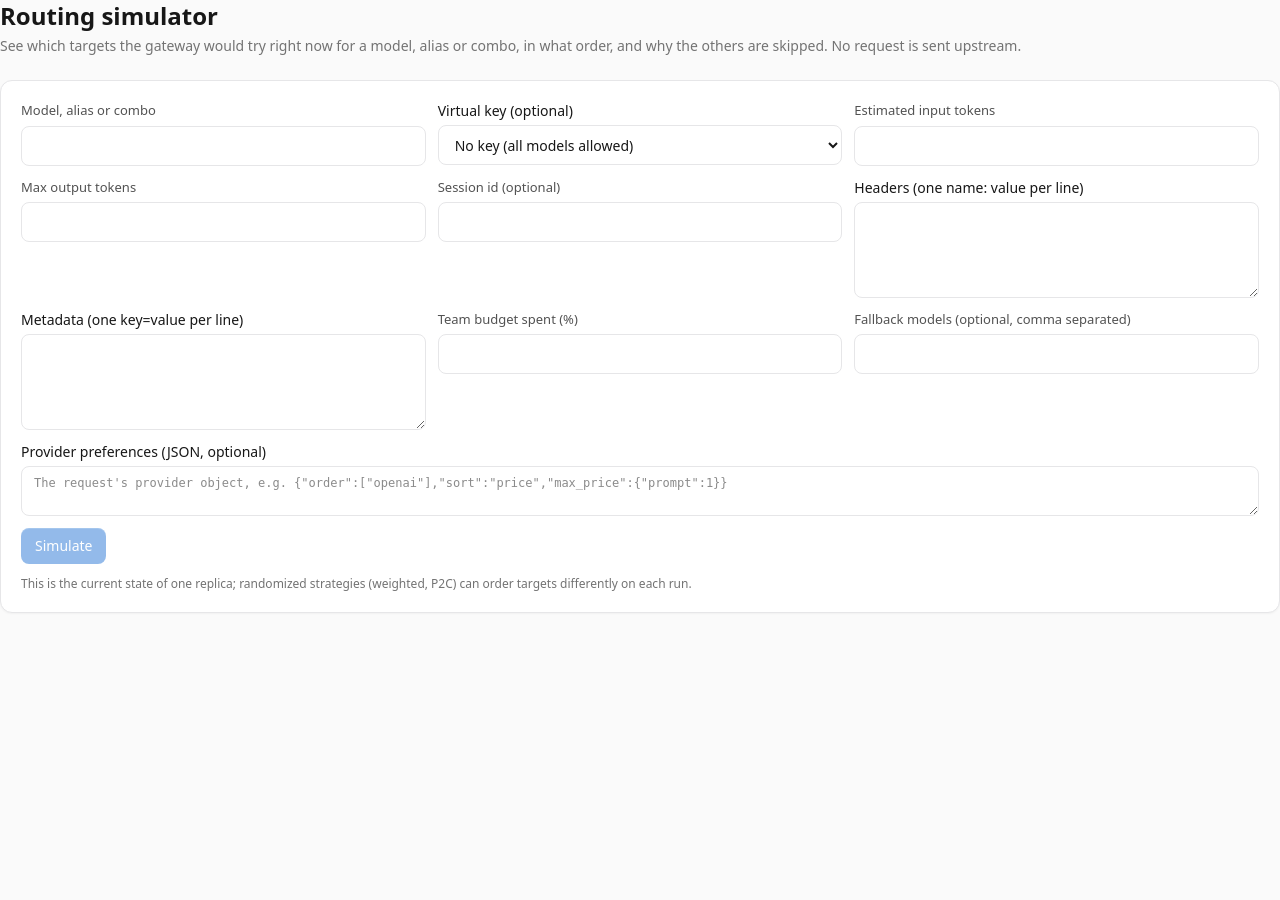
Test: routing simulator strategies (card 25.4) › shows the chosen strategy, its explanation and the signal it sorted on
In the field labelled "Model, alias or combo": (223, 146) x1=21 y1=126 x2=426 y2=166, type "fast"
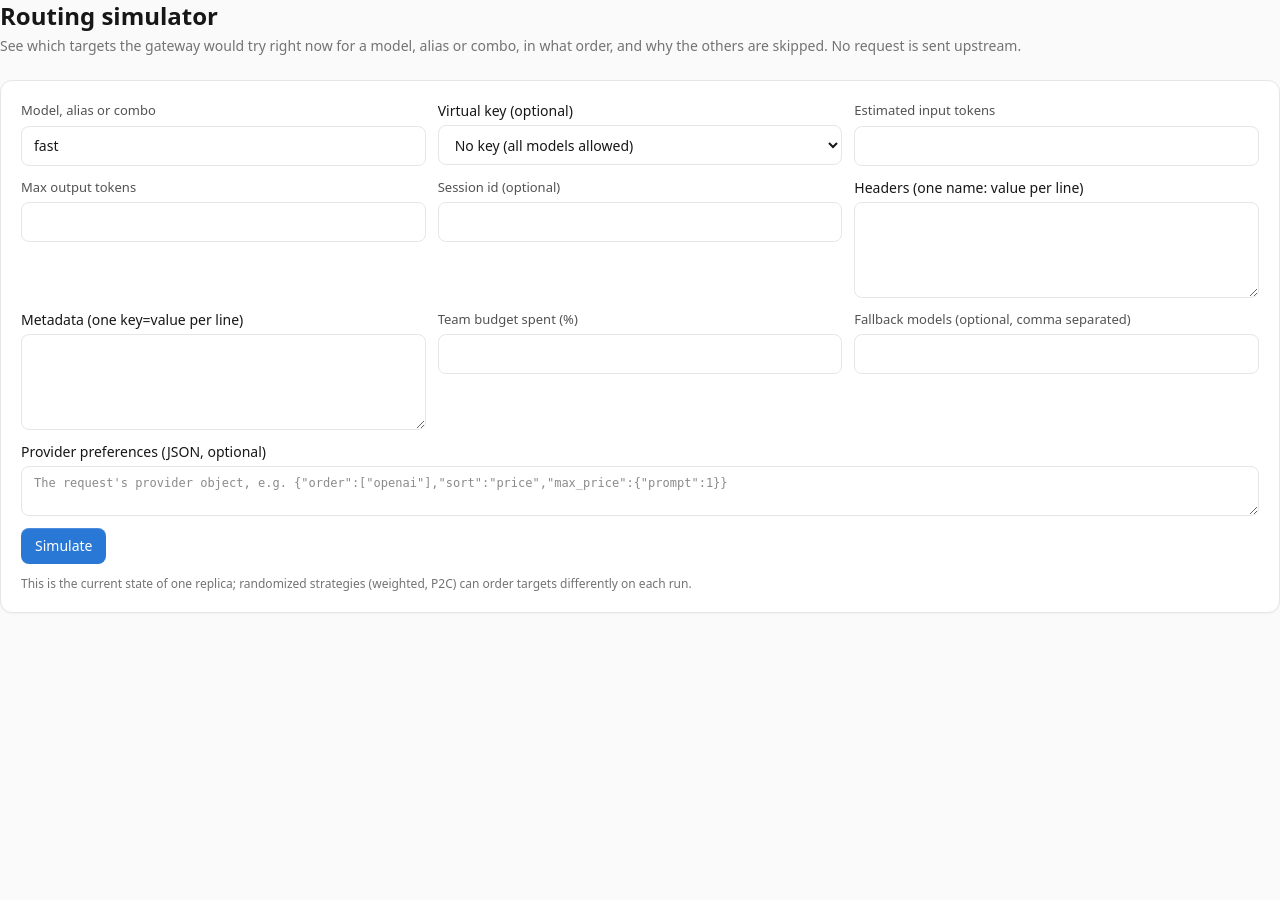
Click the button "Simulate": (64, 546) x1=21 y1=528 x2=106 y2=564
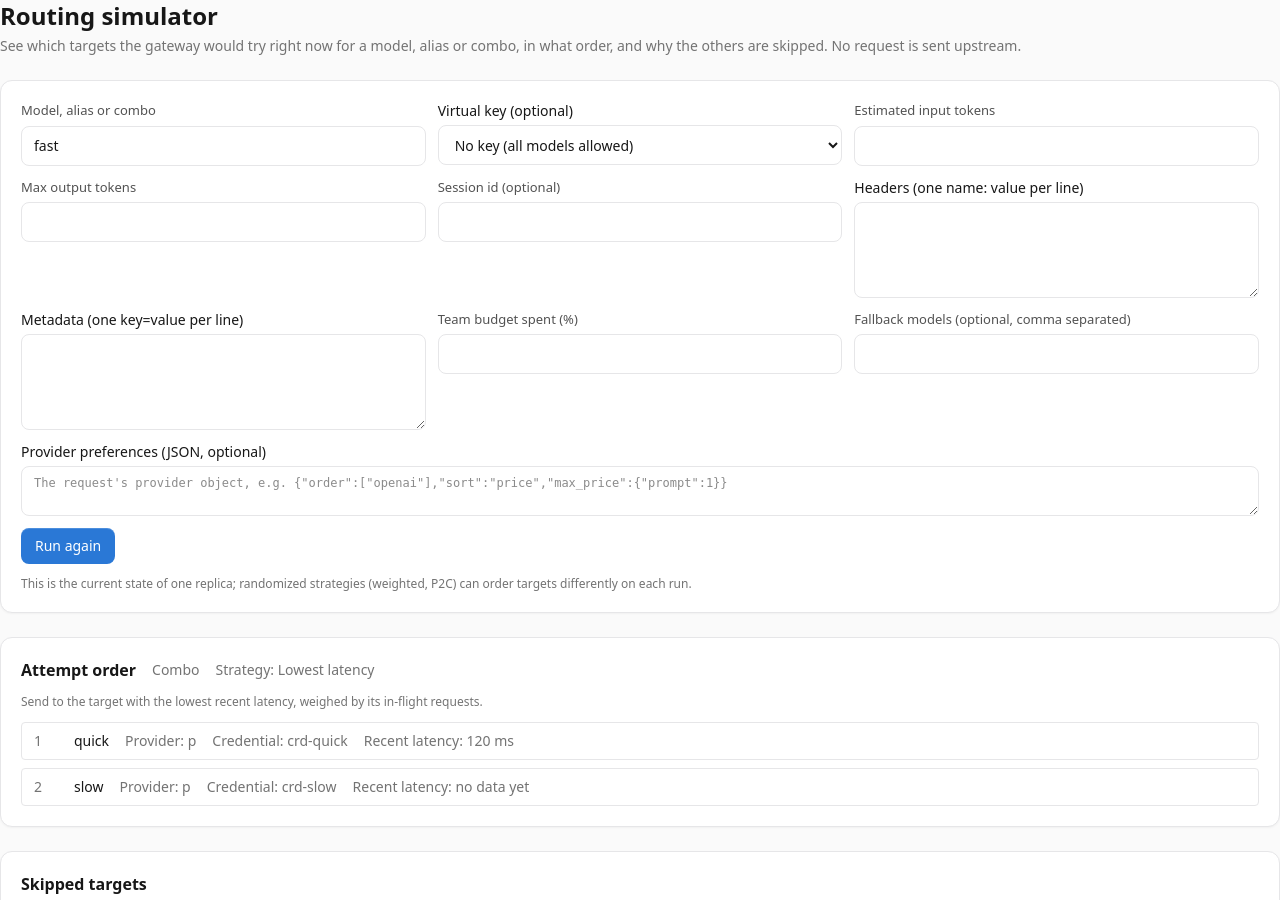
Check: the text with test id "simulator-strategy" reads "Strategy: Lowest latency", box x1=216 y1=660 x2=374 y2=680
Check: the text "Send to the target with the lowest recent latency, weighed by its in-flight requests." is shown, box x1=21 y1=693 x2=483 y2=710
Check: the elements with test id "simulator-signal" read "Recent latency: 120 ms", "Recent latency: no data yet", in this order, box x1=364 y1=731 x2=514 y2=751; x1=352 y1=777 x2=529 y2=797
